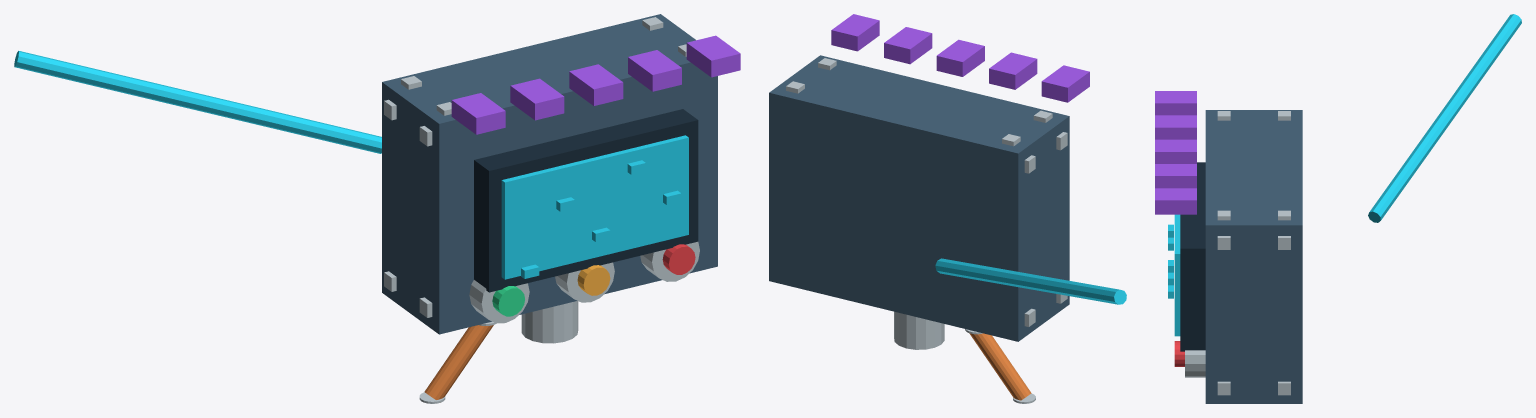
The model's file is 45_L75_WaferSurfacePotentialSensor.fbx.
The picture shows the model from 3 angles, left to right: view 1: azimuth 30°, elevation 25°; view 2: azimuth 150°, elevation 25°; view 3: azimuth 270°, elevation 25°; orthographic projection. The views are drawn at different scales.
Parts seen in each view (by area): view 1: WaferSurfacePotentialSensor; view 2: WaferSurfacePotentialSensor; view 3: WaferSurfacePotentialSensor.
Part boxes in pixels (bbox=[...]): WaferSurfacePotentialSensor: bbox=[14, 14, 740, 403]; WaferSurfacePotentialSensor: bbox=[769, 14, 1126, 403]; WaferSurfacePotentialSensor: bbox=[1155, 14, 1521, 403].
Bounding box in the file's own units: 98.72 × 59.34 × 70.21.
